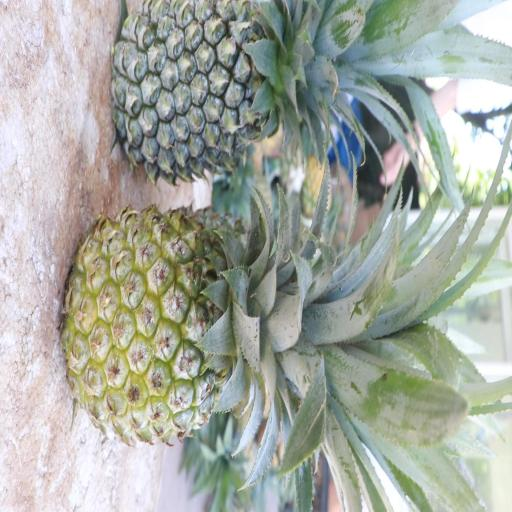------------------------------: (56, 203, 348, 453)
